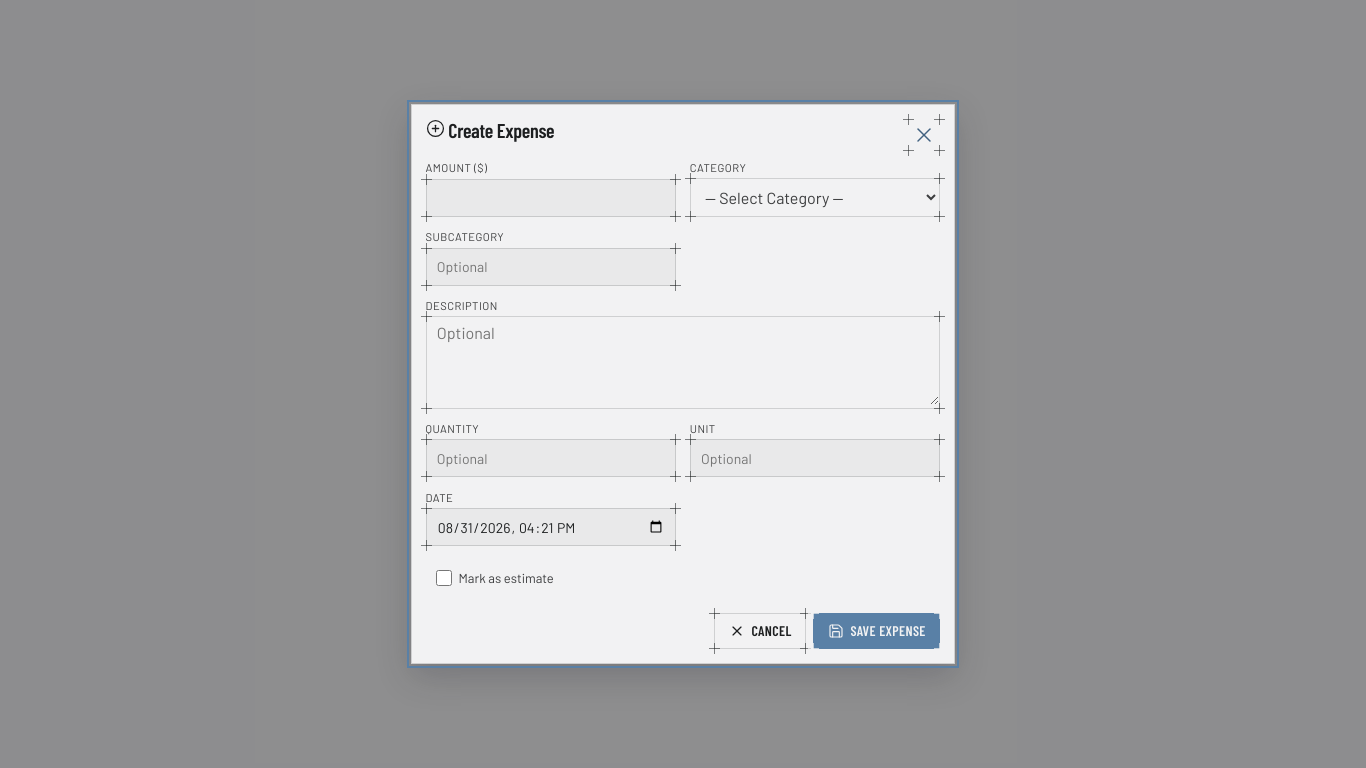
it: ExpenseFormModal › validates amount is greater than 0
Select "Shipping" in the dropdown labelled "Category" at (815, 197), box top-left (691, 179), bottom-right (939, 215)
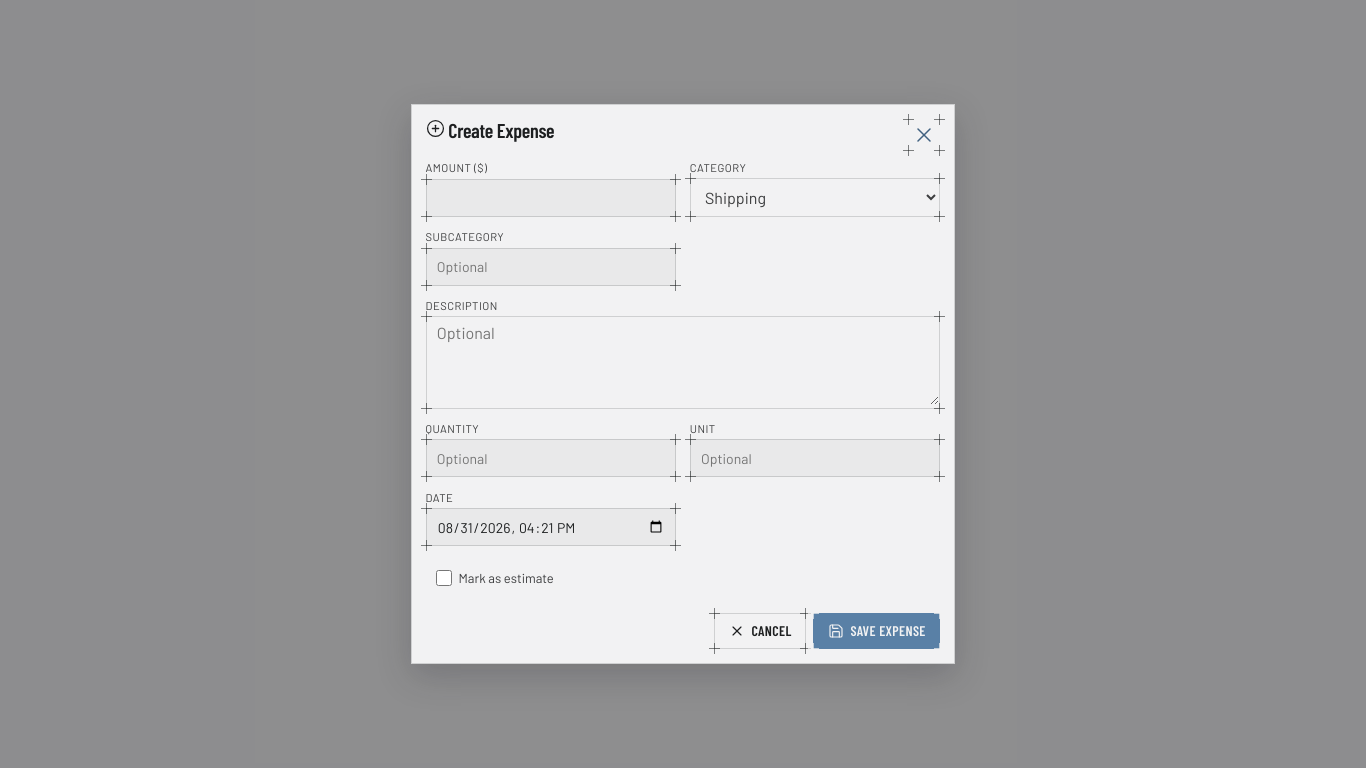
Type "0" into the number field labelled "Amount ($)".
click(551, 198); type("0")  # box top-left (427, 180), bottom-right (675, 216)
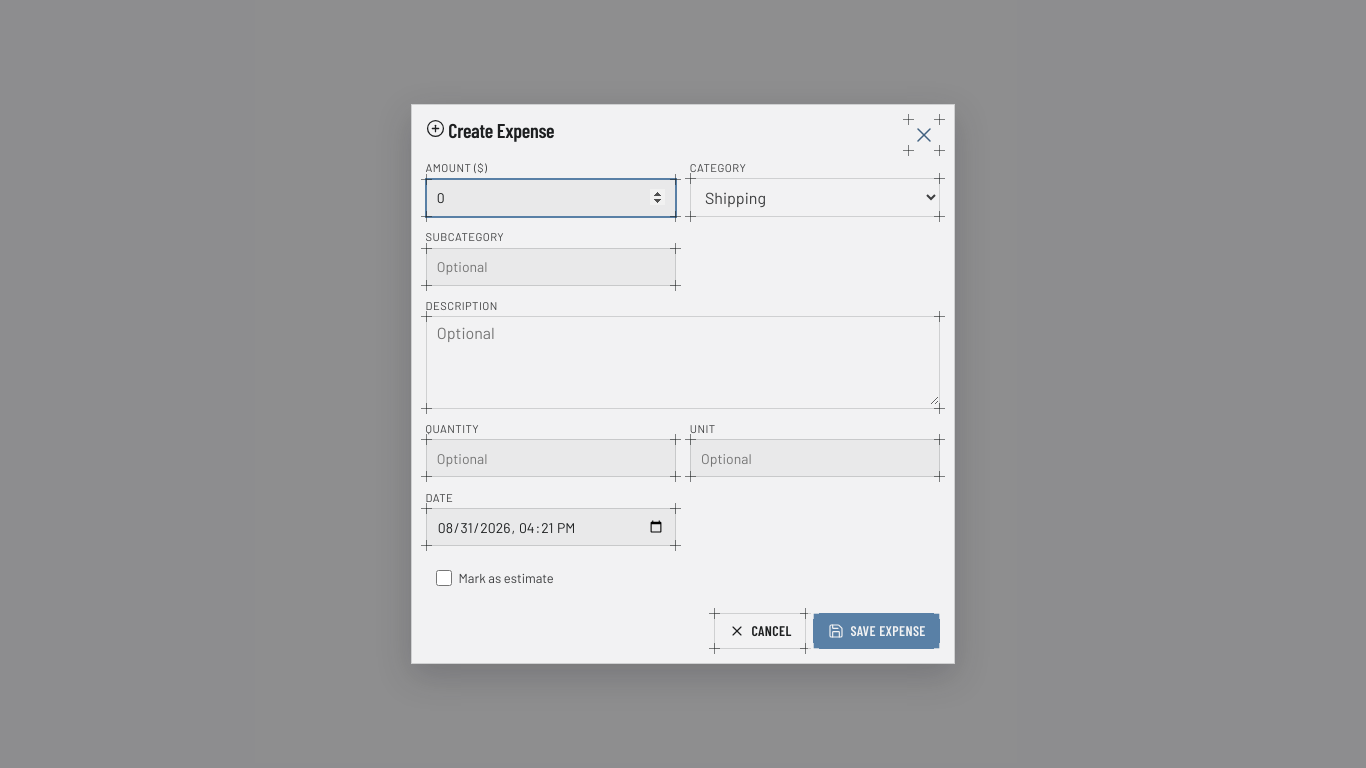
Click the button "Save Expense".
click(877, 631)  # box top-left (813, 613), bottom-right (940, 649)
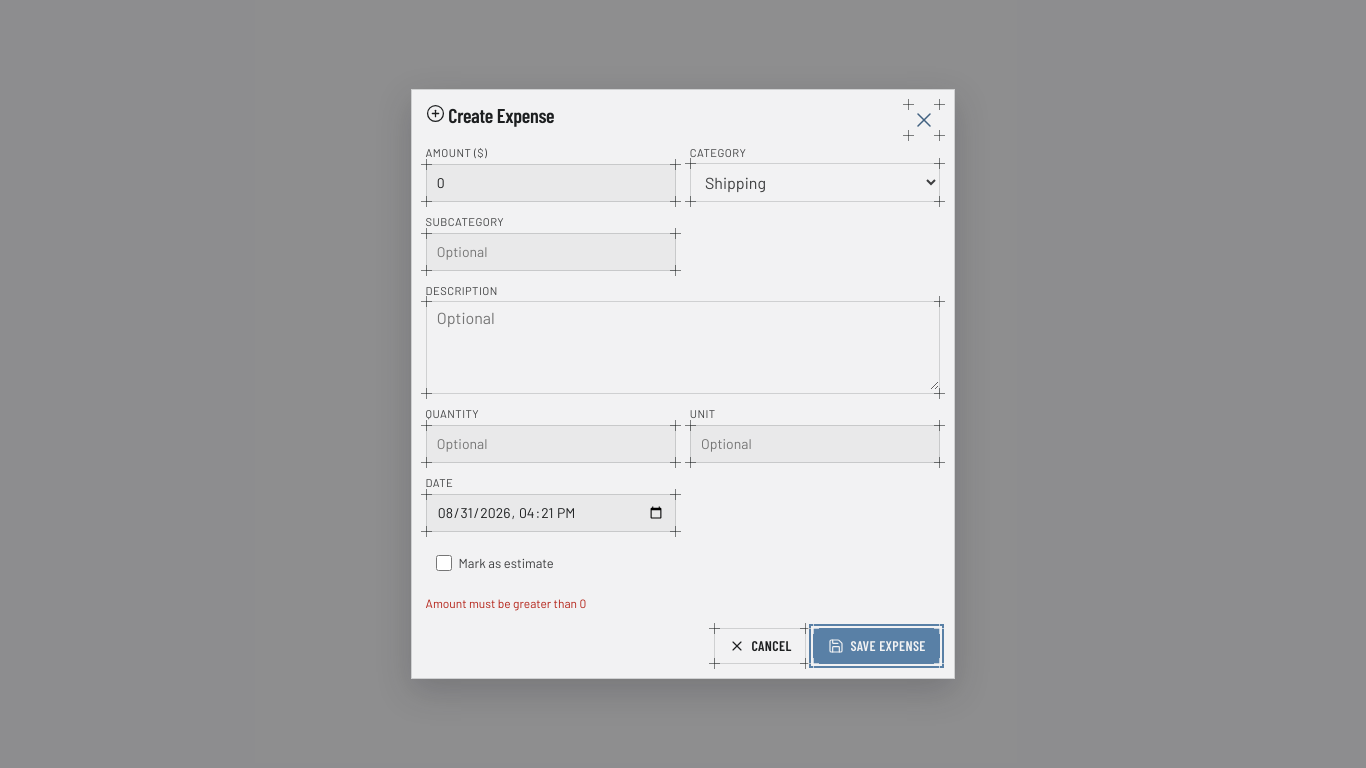
Check: the message reads "Amount must be greater than 0", box top-left (426, 596), bottom-right (586, 610)
